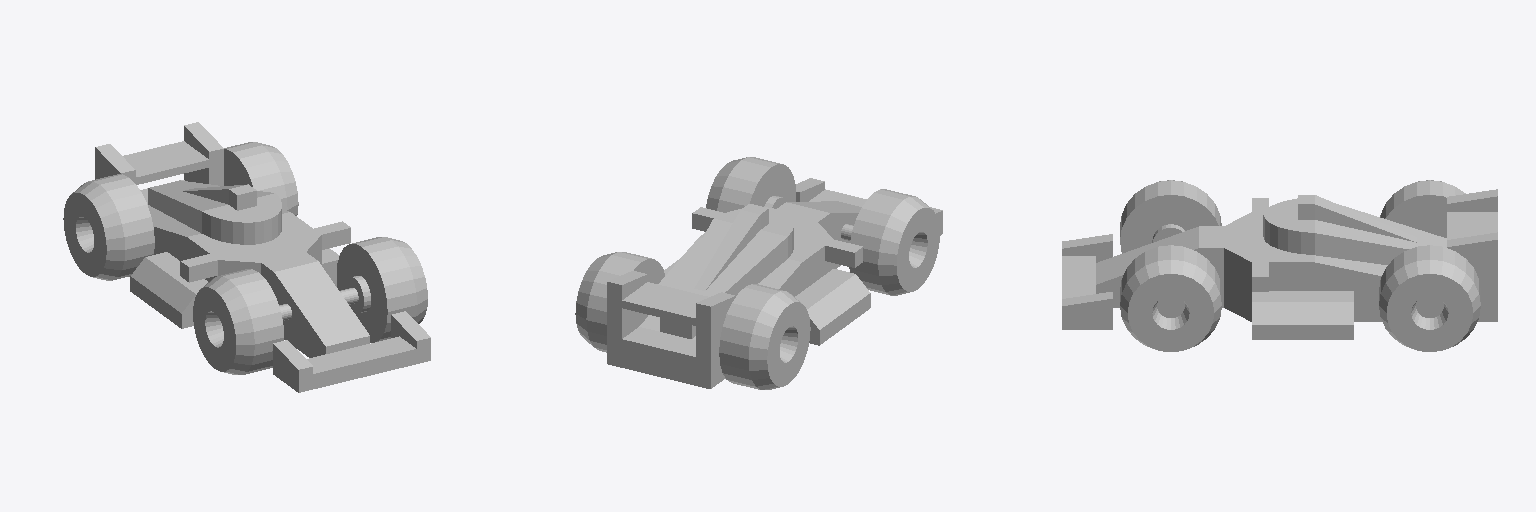
The model's file is race.obj.
3 views of the same model, side by side, from view 1: azimuth 30°, elevation 25°; view 2: azimuth 150°, elevation 25°; view 3: azimuth 270°, elevation 25° (orthographic).
Parts seen in each view (by area): view 1: body, wheel_backRight, wheel_frontRight, wheel_frontLeft, wheel_backLeft; view 2: body, wheel_backRight, wheel_frontRight, wheel_frontLeft, wheel_backLeft; view 3: body, wheel_frontLeft, wheel_backLeft, wheel_frontRight, wheel_backRight.
Part boxes in pixels (x1,y1,x2,y2): body: (95,122,430,392); wheel_backRight: (63,174,154,280); wheel_frontRight: (193,269,283,374); wheel_frontLeft: (337,237,427,342); wheel_backLeft: (224,142,298,215); body: (607,178,942,388); wheel_backRight: (719,284,810,389); wheel_frontRight: (849,189,939,295); wheel_frontLeft: (706,157,795,212); wheel_backLeft: (575,252,664,352); body: (1062,189,1497,339); wheel_frontLeft: (1120,245,1221,351); wheel_backLeft: (1379,245,1480,351); wheel_frontRight: (1120,180,1221,253); wheel_backRight: (1380,180,1465,237).
Bounding box in the file's own units: 0.975 × 0.5494 × 1.92.